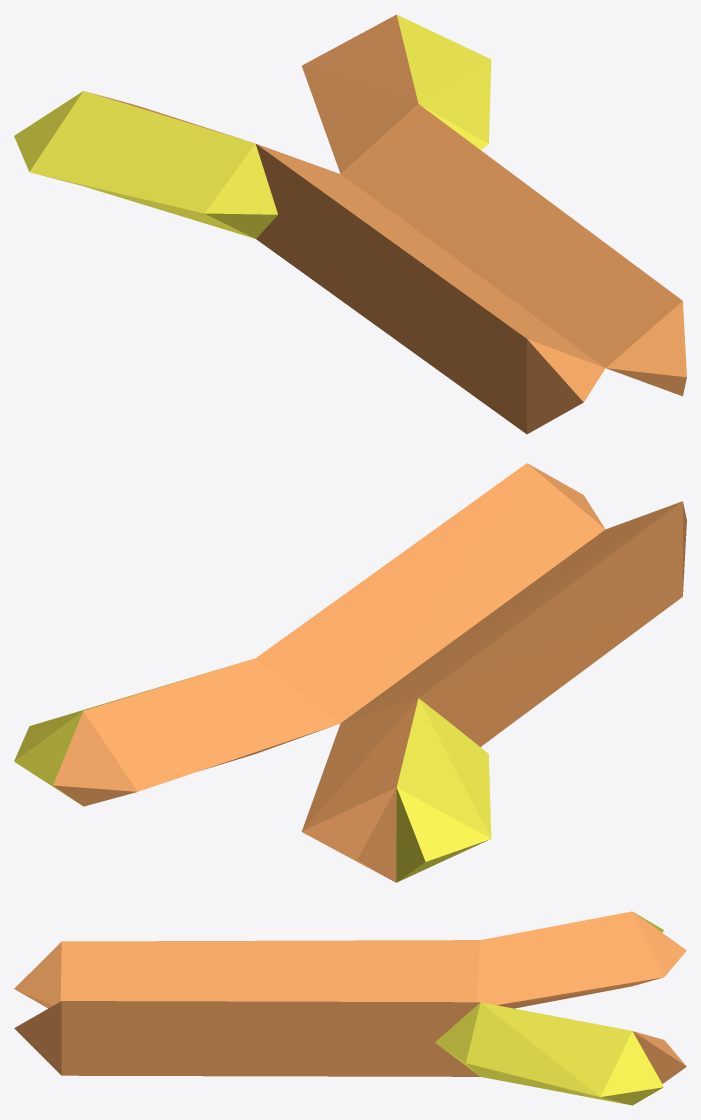
File: antibody_HIGH.fbx
3 views of the same model, one above another, from view 1: azimuth 30°, elevation 25°; view 2: azimuth 150°, elevation 25°; view 3: azimuth 270°, elevation 25° (orthographic). The views are drawn at different scales.
Parts seen in each view (by area): view 1: antibody_HIGH; view 2: antibody_HIGH; view 3: antibody_HIGH.
Part boxes in pixels (bbox=[...]): antibody_HIGH: bbox=[14, 14, 686, 434]; antibody_HIGH: bbox=[14, 463, 686, 882]; antibody_HIGH: bbox=[14, 911, 686, 1105].
Bounding box in the file's own units: 0.2977 × 0.0589 × 0.4802.
